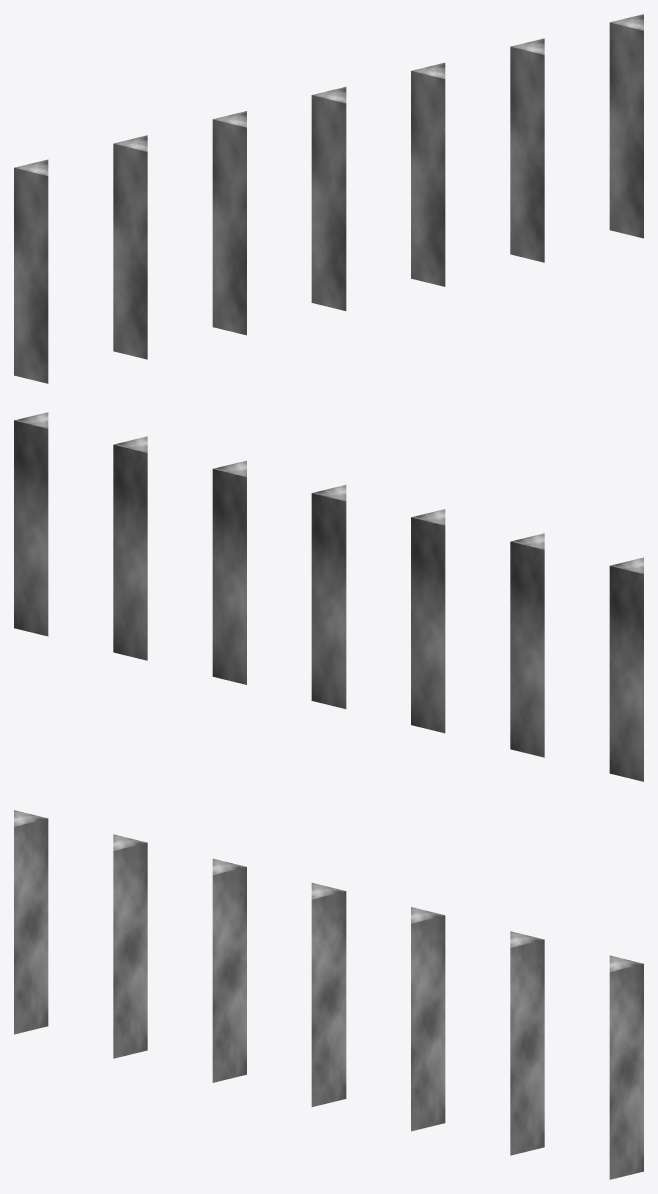
Rendered from 01-nsdoor.fbx.
3 views of the same model, one above another, from view 1: azimuth 30°, elevation 25°; view 2: azimuth 150°, elevation 25°; view 3: azimuth 330°, elevation 25° (orthographic).
Visible parts, largest first — view 1: door; view 2: door; view 3: door.
Boxes of the visible parts, bbox=[...] form: door: bbox=[14, 14, 643, 383]; door: bbox=[14, 412, 643, 781]; door: bbox=[14, 810, 643, 1179].
Bounding box in the file's own units: 3.17 × 1 × 0.15.
Materials: 1 (1 with a texture image).
